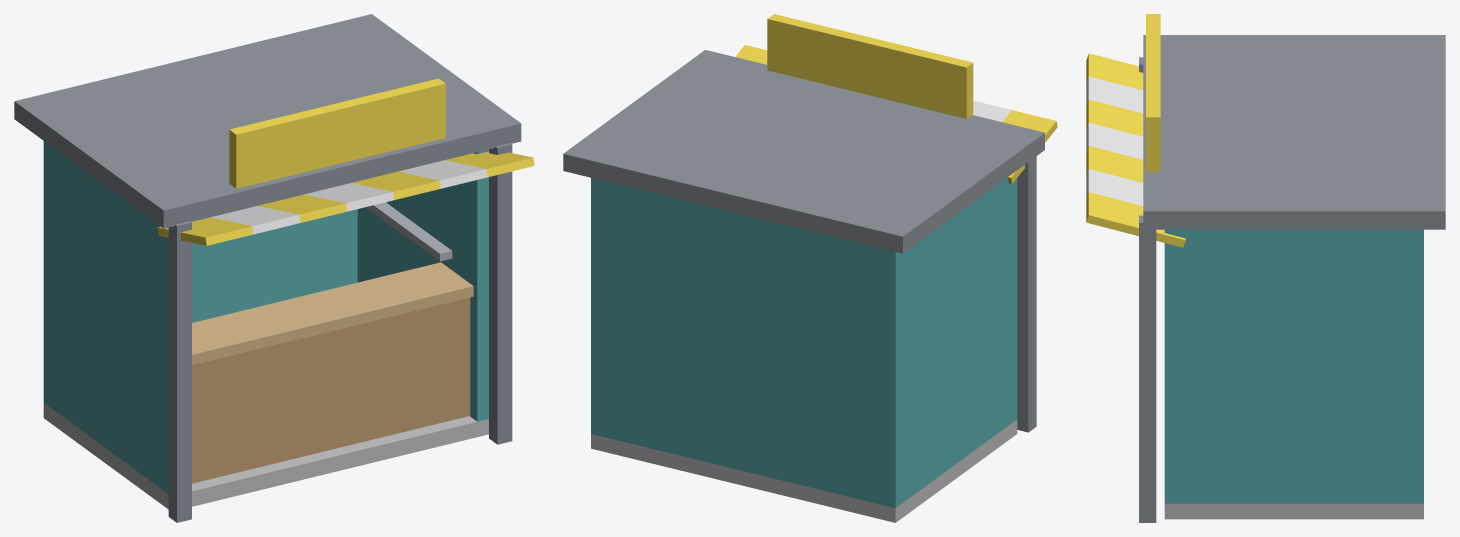
File: shop.glb
3 renders of one model, left to right at view 1: azimuth 30°, elevation 25°; view 2: azimuth 150°, elevation 25°; view 3: azimuth 270°, elevation 25°, orthographic. The views are drawn at different scales.
Parts seen in each view (by area): view 1: shop; view 2: shop; view 3: shop.
Part boxes in pixels (x1,y1,x2,y2): shop: (14,14,534,522); shop: (563,14,1057,522); shop: (1086,14,1445,522).
Bounding box in the file's own units: 2.9 × 2.87 × 2.49.
